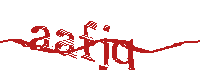a: (54, 29, 76, 55), (30, 25, 51, 51)
f: (79, 18, 97, 63)
j: (99, 23, 112, 70)
q: (112, 38, 136, 70)
